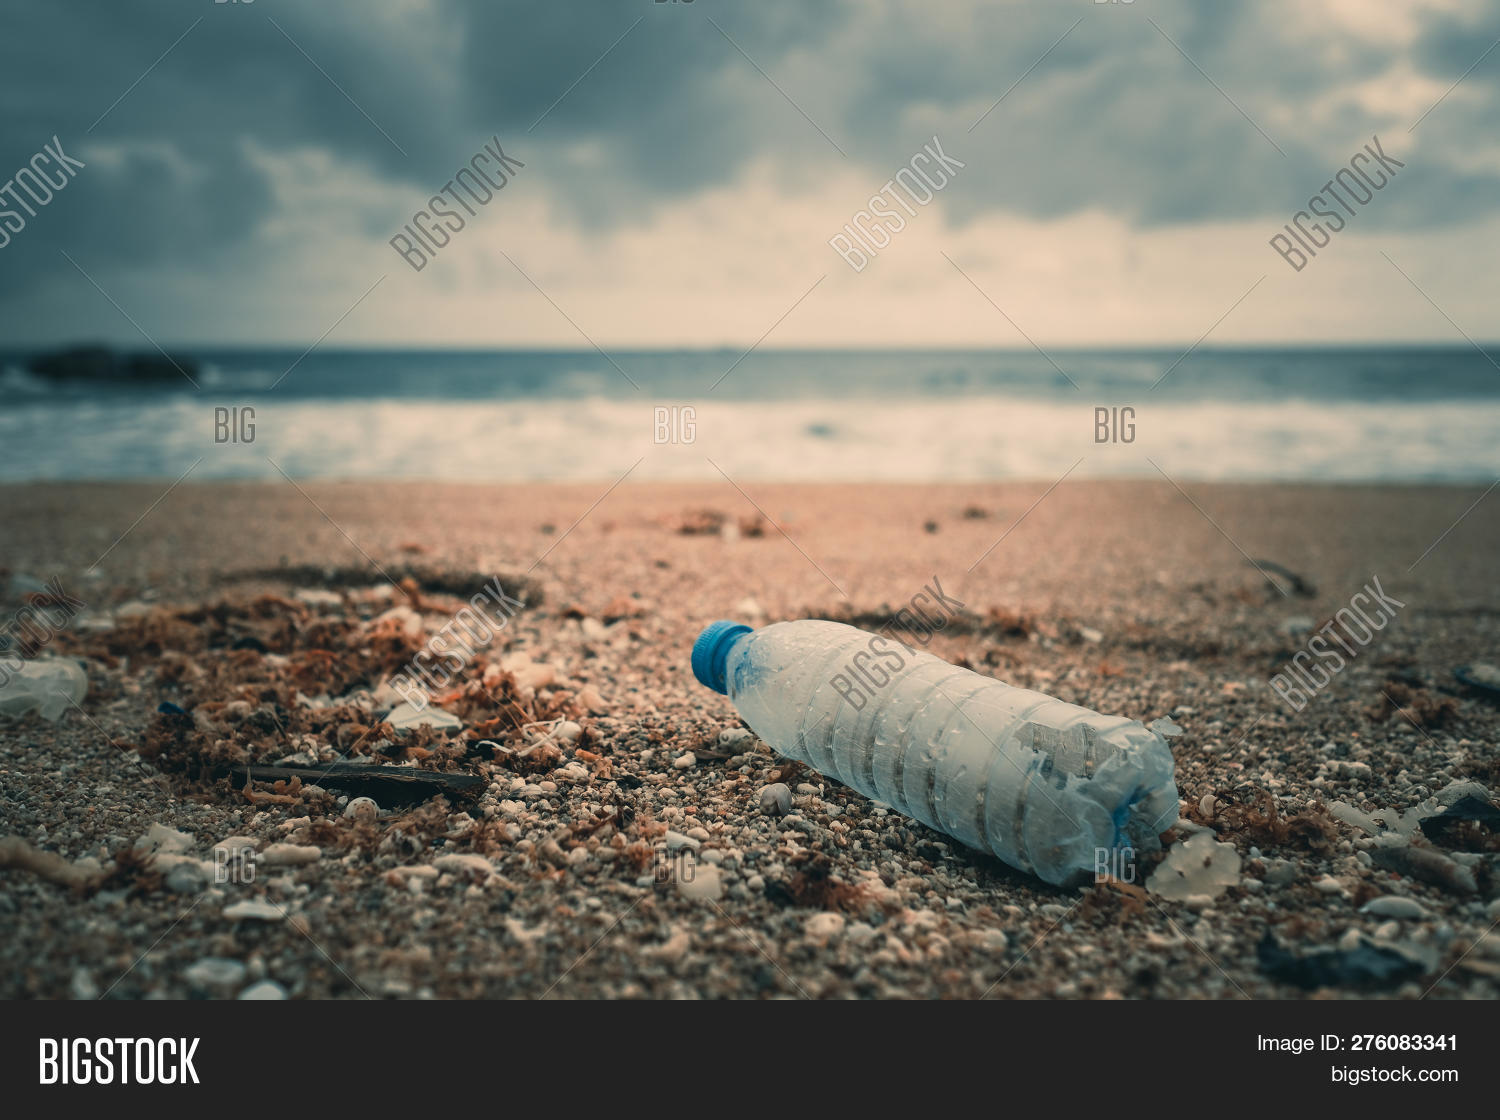plastic_bottle: (574, 499, 1344, 973)
